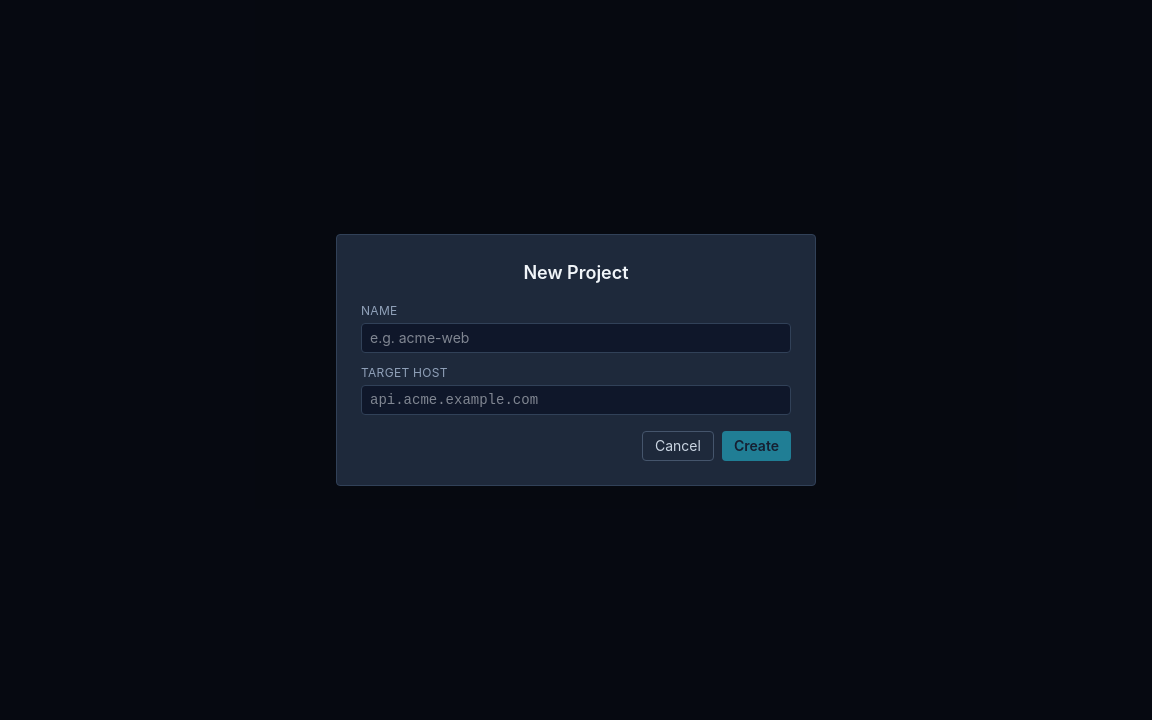
NewProjectModal › disables the Create button when either field is empty or invalid
Expected: the button with test id "new-project-modal-create" is disabled, [722, 431, 791, 461]
Note: Name filled, host empty.
Type "acme-web" into the field with test id "new-project-modal-name" at (576, 338), box [361, 323, 791, 353]
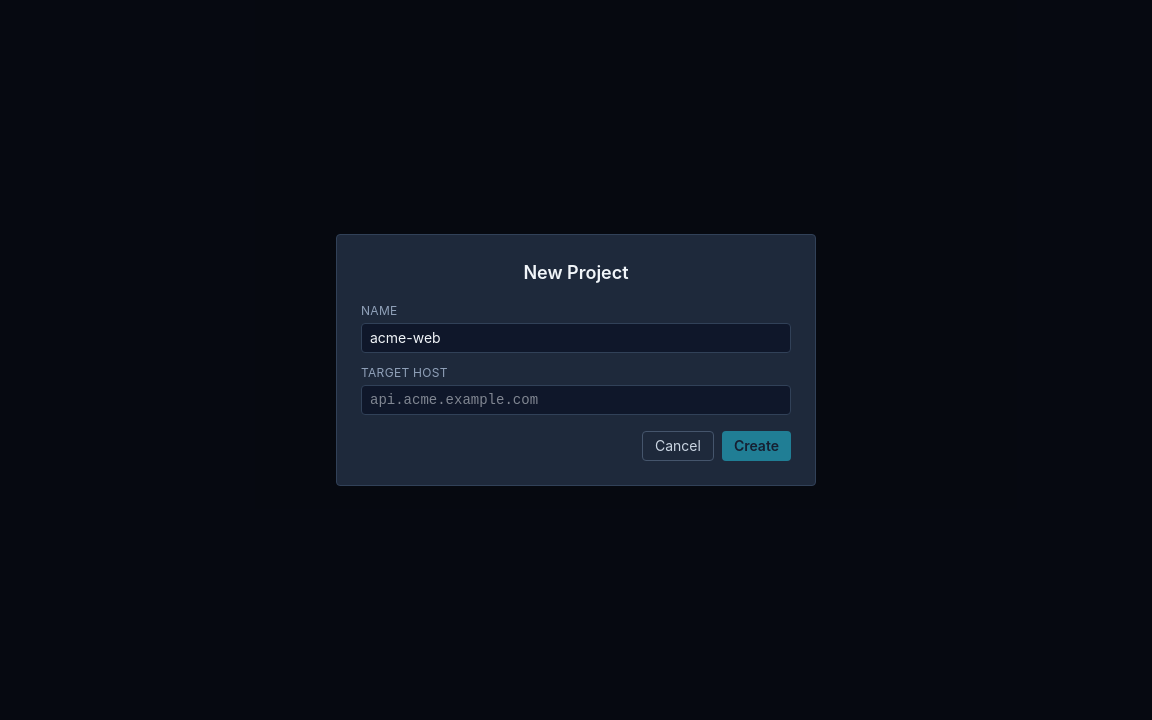
Expected: the button with test id "new-project-modal-create" is disabled, [722, 431, 791, 461]
Note: Both filled but host fails isValidHostShape.
Type "foo bar" into the field with test id "new-project-modal-target-host" at (576, 400), box [361, 385, 791, 415]
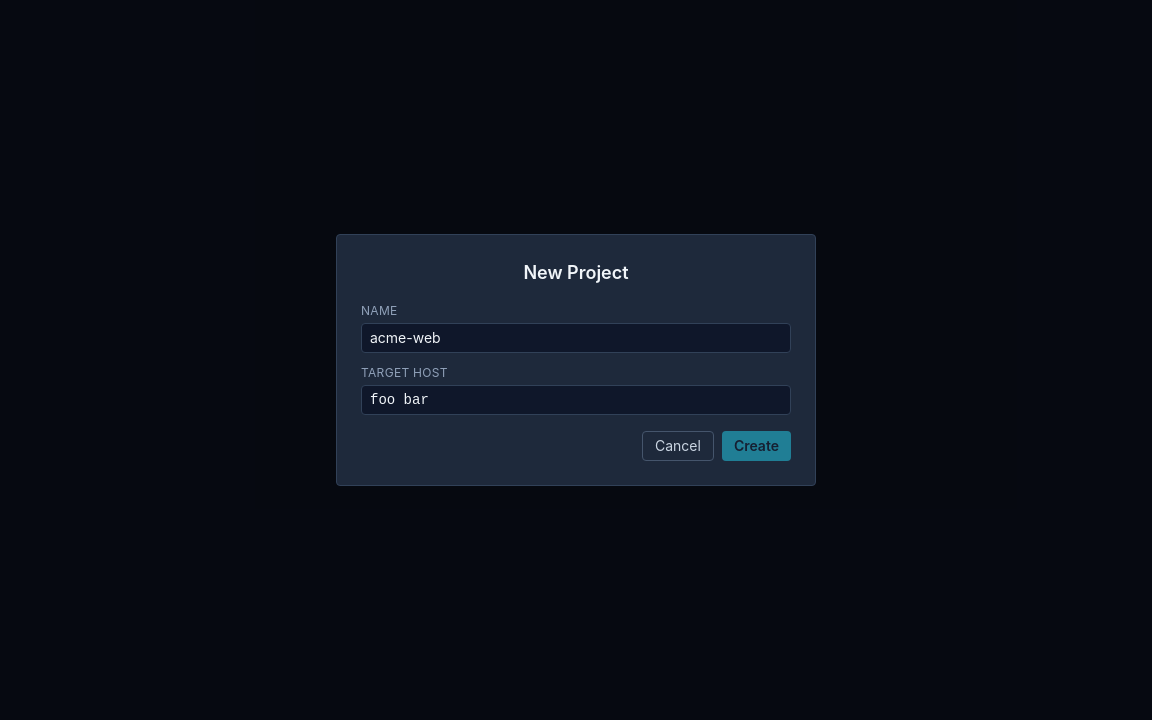
Leave the field with test id "new-project-modal-target-host", box [361, 385, 791, 415]
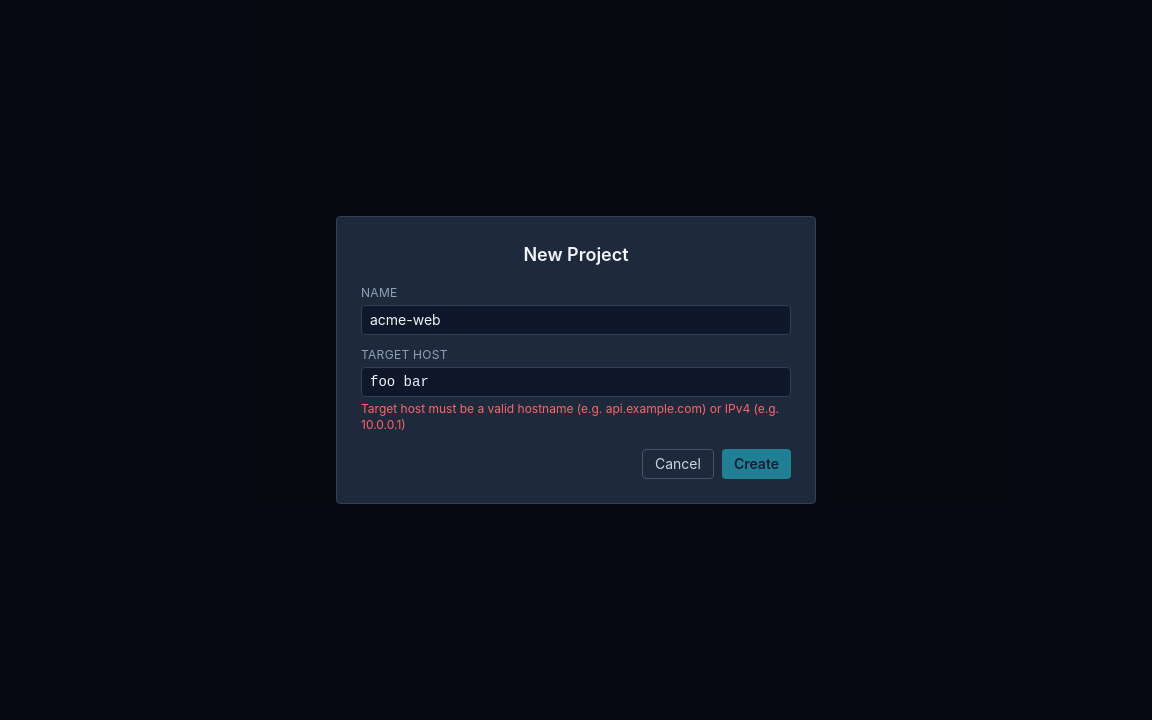
Expected: the button with test id "new-project-modal-create" is disabled, [722, 449, 791, 479]
Expected: the text with test id "new-project-modal-target-host-error" is shown, [361, 401, 791, 433]
